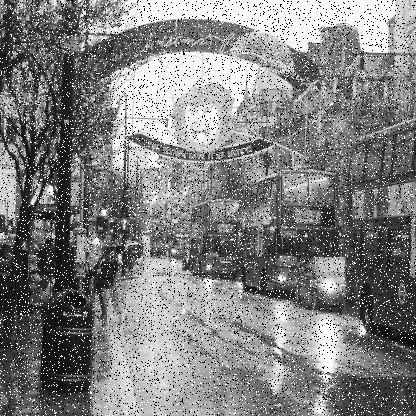Car: (300, 258, 358, 311), (183, 244, 189, 272)
